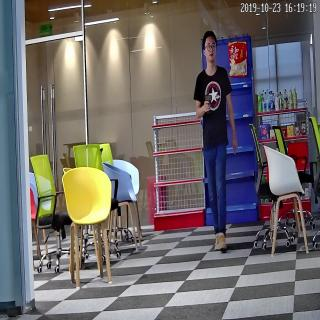gun: (203, 90, 212, 120)
